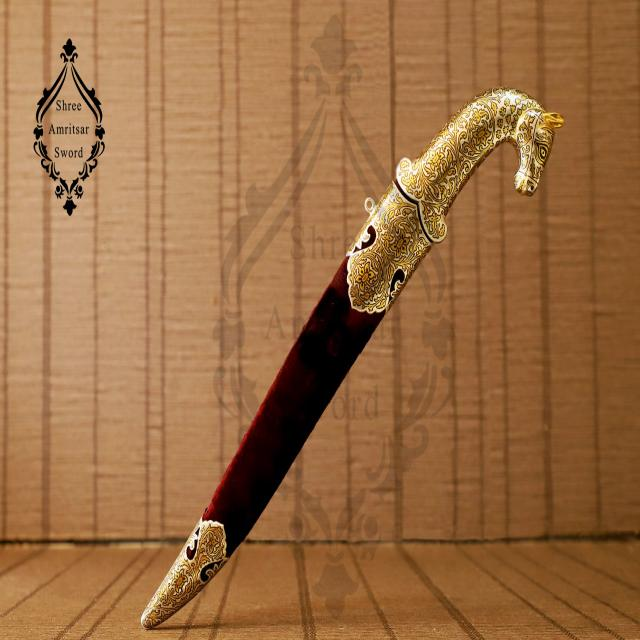Gun: (138, 68, 572, 627)
